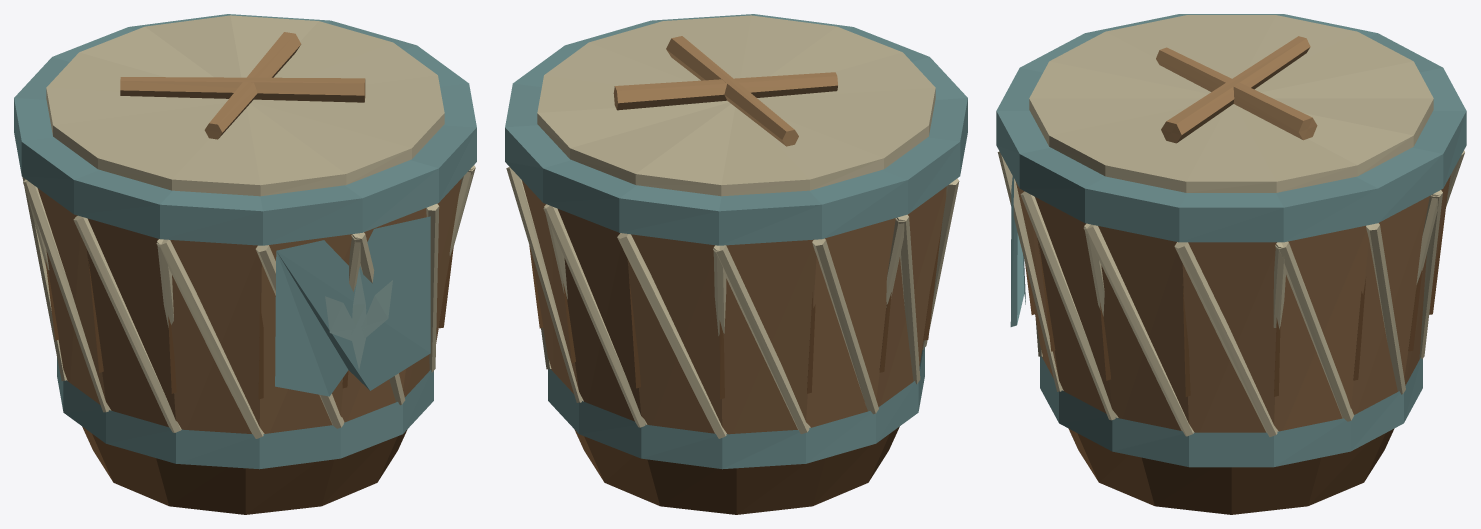
Rendered from jungle_drum.glb.
The picture shows the model from 3 angles, left to right: view 1: azimuth 30°, elevation 25°; view 2: azimuth 150°, elevation 25°; view 3: azimuth 270°, elevation 25°; orthographic projection.
Parts seen in each view (by area): view 1: WoodlandMesh; view 2: WoodlandMesh; view 3: WoodlandMesh.
Boxes of the visible parts, x1,y1,x2,y2 form: WoodlandMesh: [14, 14, 476, 514]; WoodlandMesh: [505, 14, 967, 514]; WoodlandMesh: [996, 14, 1466, 514].
Bounding box in the file's own units: 1.68 × 1.5 × 1.72.
